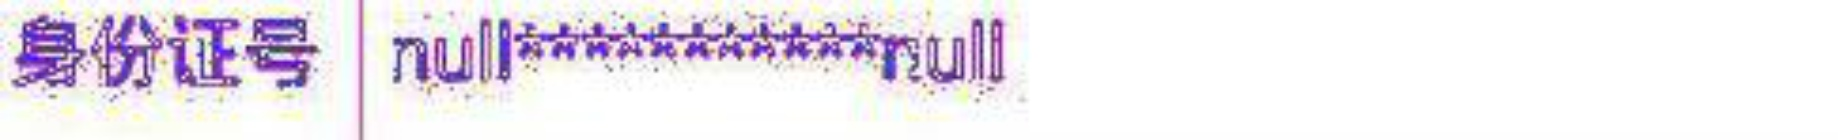EditText: (1, 1, 1837, 139)
